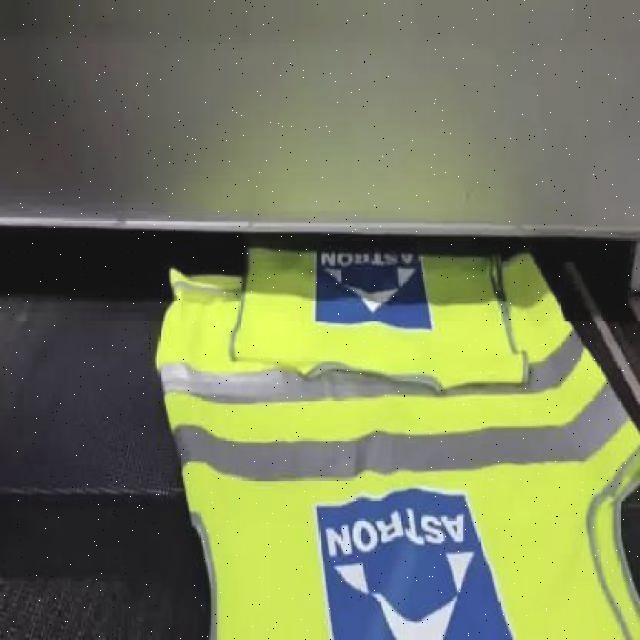Mask: (152, 252, 640, 640)
